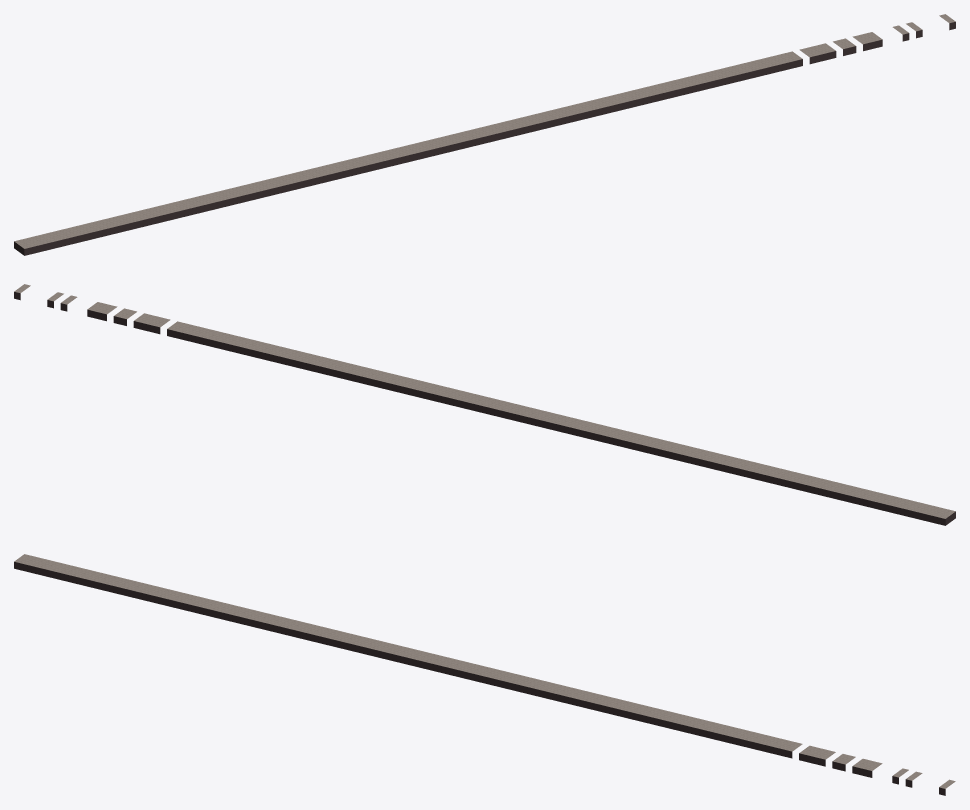
Rendered from EndRoom1BasePiso-0f47e79d1c08.glb.
3 views of the same model, one above another, from view 1: azimuth 30°, elevation 25°; view 2: azimuth 150°, elevation 25°; view 3: azimuth 330°, elevation 25° (orthographic).
Visible parts, largest first — view 1: Setor_0, Setor_1, Setor_2, Setor_3; view 2: Setor_0, Setor_1, Setor_2, Setor_3; view 3: Setor_2, Setor_1, Setor_0, Setor_3, Setor_4.
Part boxes in pixels (x1,y1,x2,y2): Setor_0: (14, 189, 237, 255); Setor_1: (227, 137, 450, 203); Setor_2: (440, 85, 663, 151); Setor_3: (653, 33, 875, 99); Setor_0: (732, 459, 955, 525); Setor_1: (519, 407, 742, 473); Setor_2: (306, 355, 529, 421); Setor_3: (94, 303, 316, 369); Setor_2: (439, 658, 662, 724); Setor_1: (227, 606, 449, 672); Setor_0: (14, 554, 236, 620); Setor_3: (652, 710, 875, 776); Setor_4: (865, 762, 955, 795).
Bounding box in the file's own units: 146 × 1.04 × 2.84.
1 material, 1 textured.
